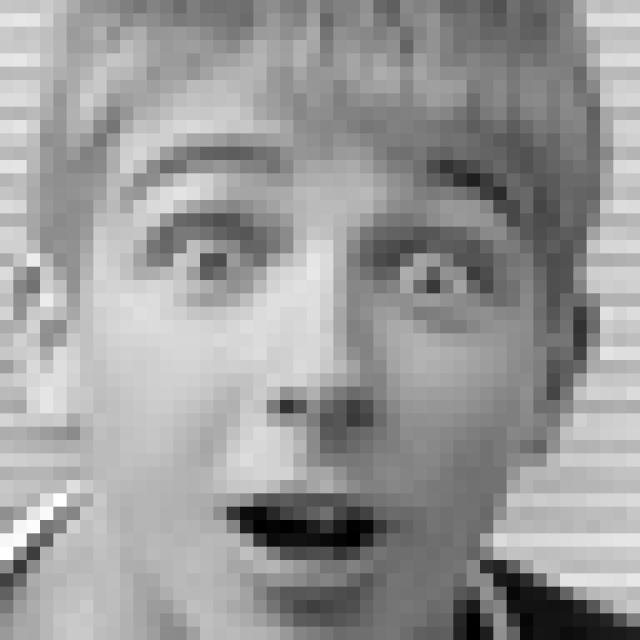surprise: (125, 135, 539, 592)
